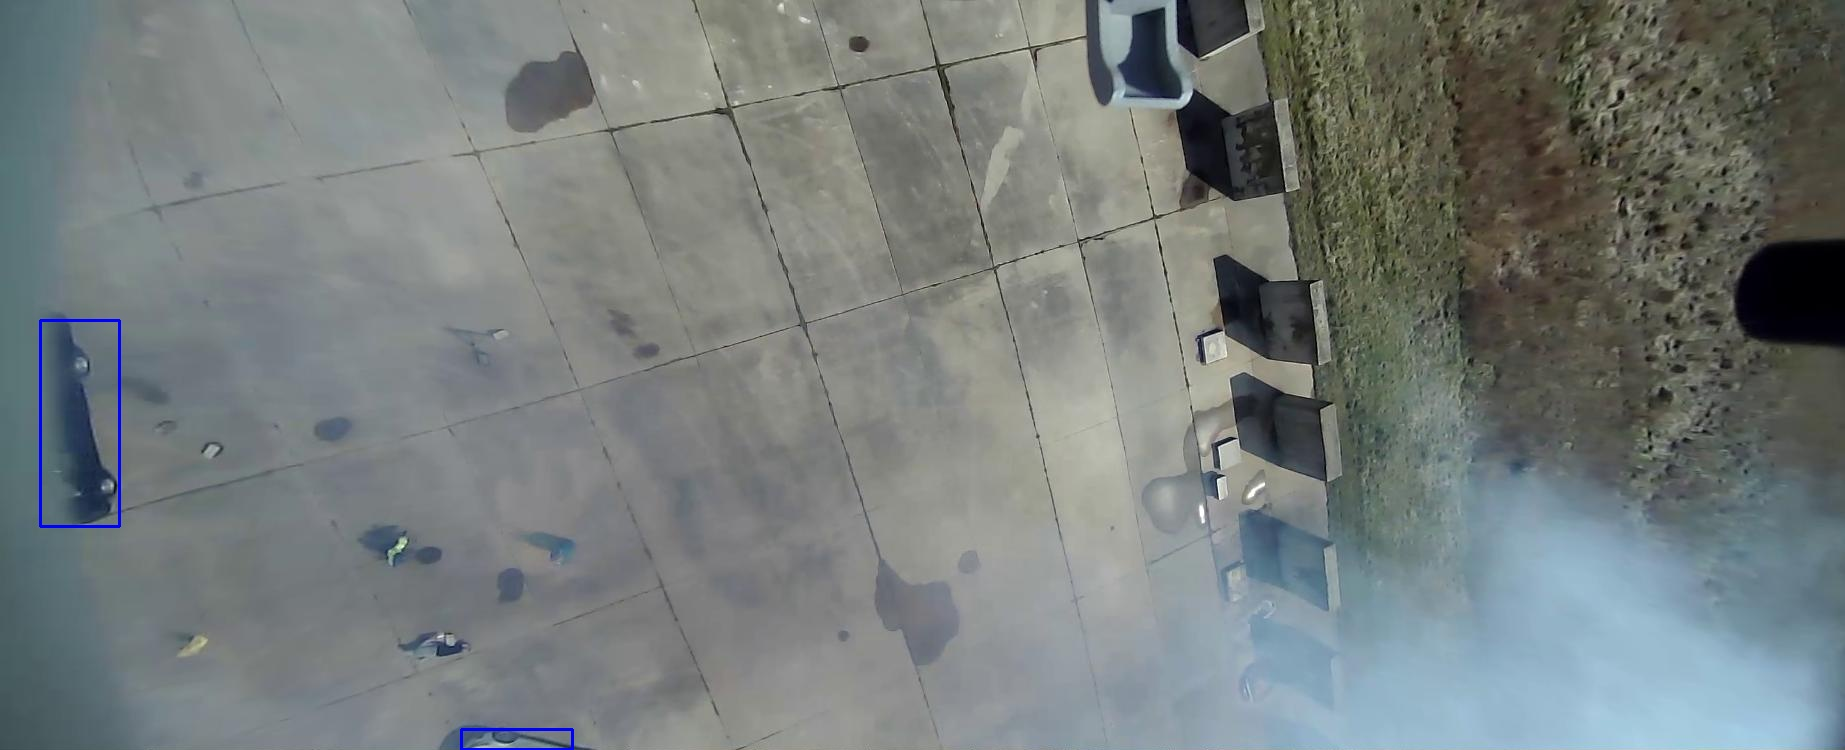vehicle: (320, 40, 526, 119), (730, 462, 750, 572)
